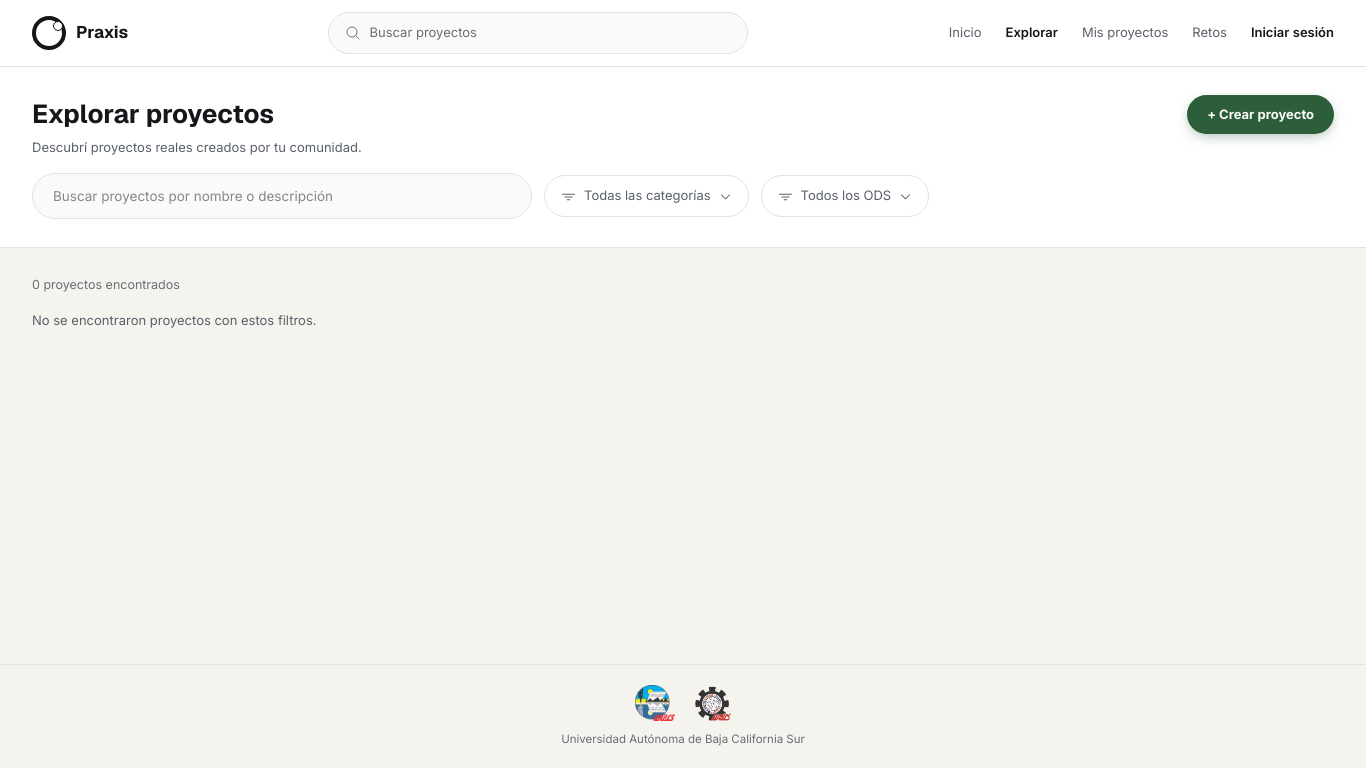
Test: Explore — category and ODS filters › applies an ODS filter once checked
Click the button "Todos los ODS": click(845, 196) [761,175,929,217]
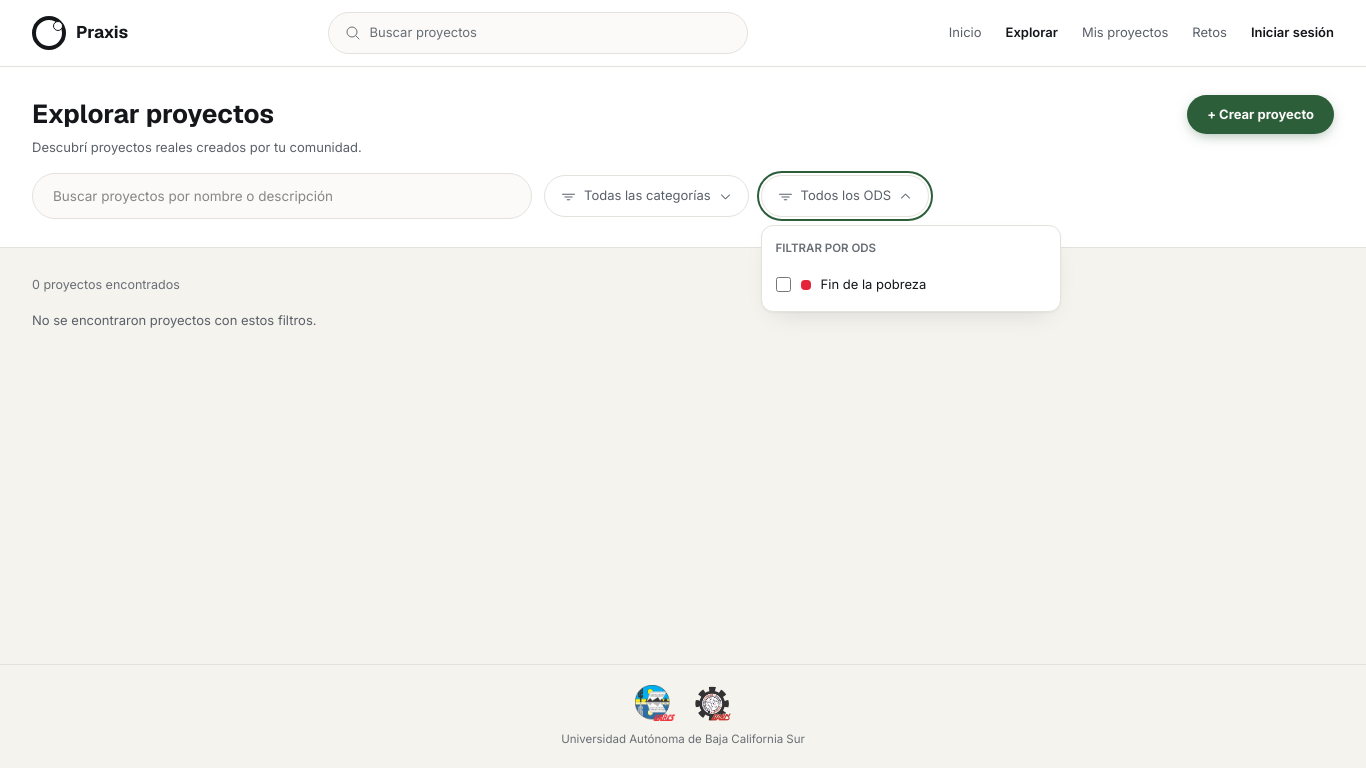
Click the checkbox labelled "Fin de la pobreza": click(783, 285) [776,277,791,292]
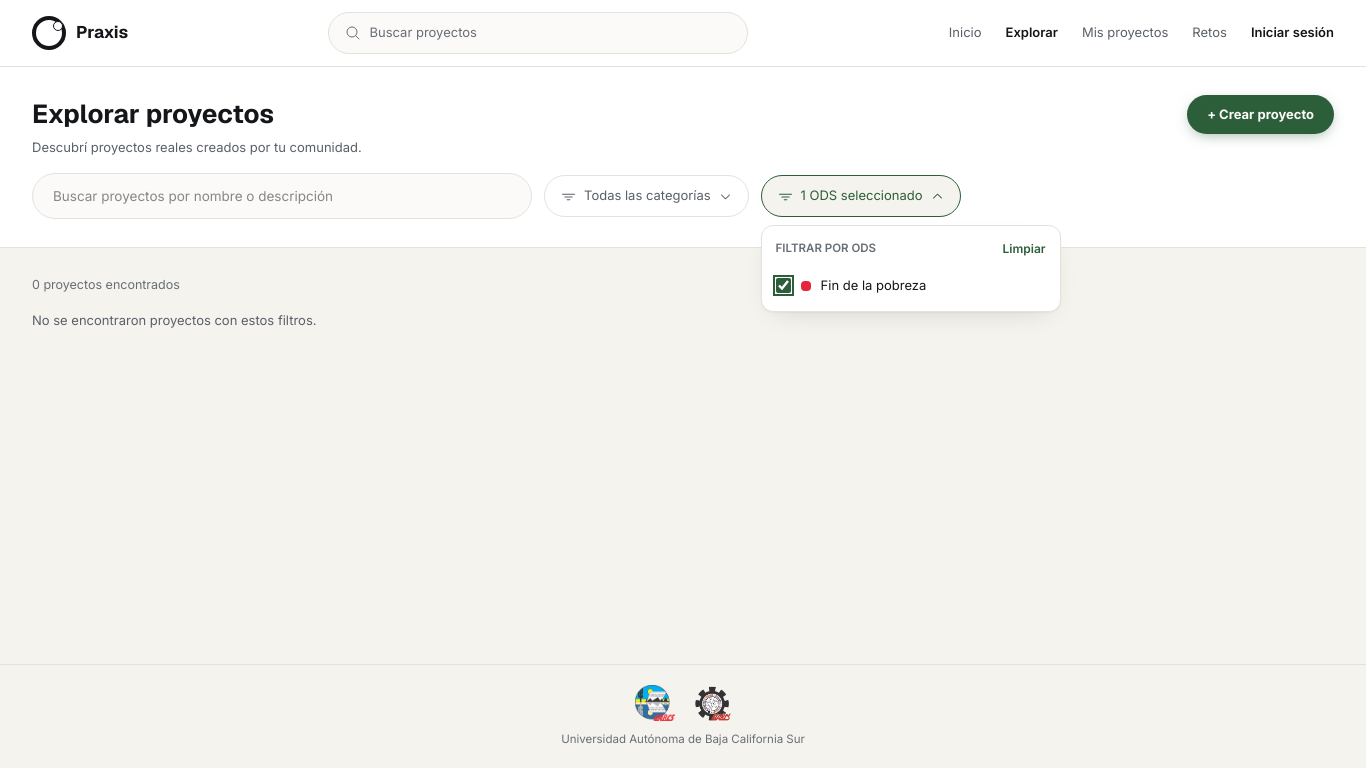
Check: the button "1 ODS seleccionado" is shown, box [761,175,961,217]
